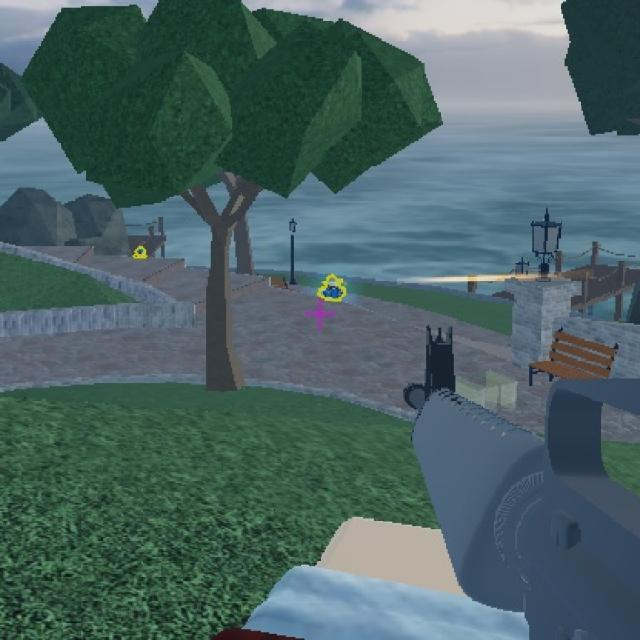player: (321, 272, 345, 304), (134, 242, 150, 262)
